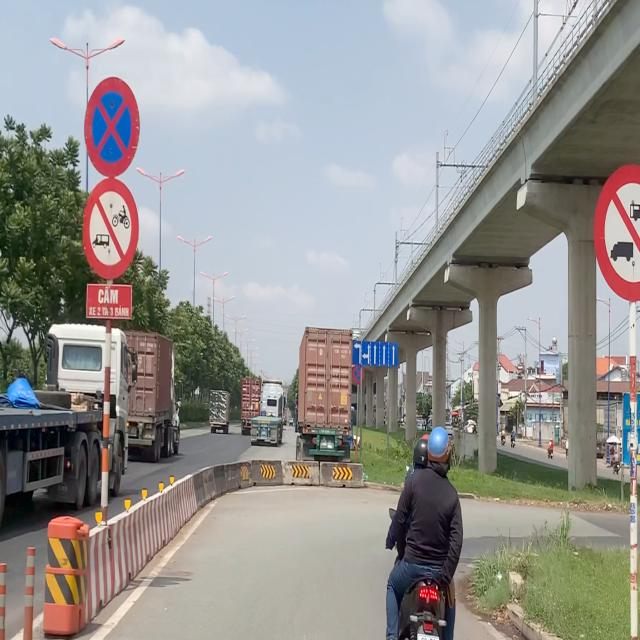Cam con lai: (593, 164, 640, 304), (82, 178, 140, 280)
Cam dung va do: (83, 75, 141, 177), (352, 362, 365, 385)
